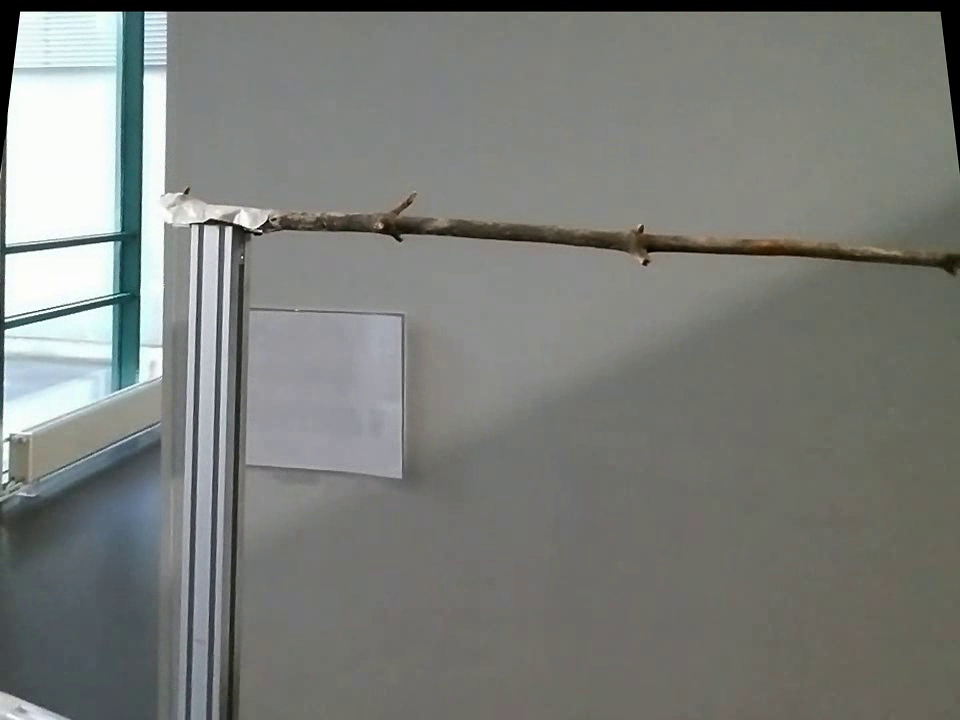aluminum_frame: (166, 233, 252, 716)
branch: (279, 181, 959, 284)
